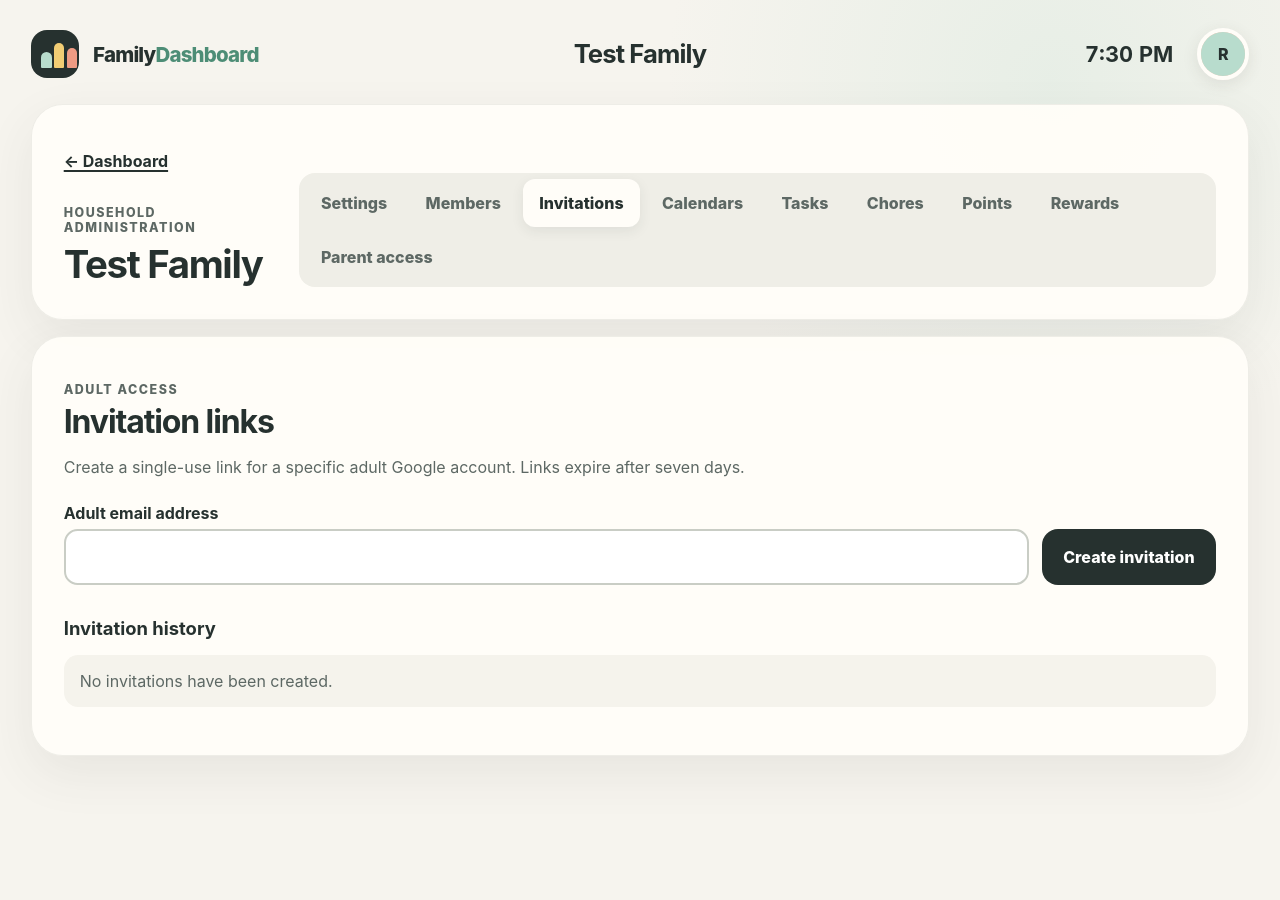
adult invitations › creates a one-time copyable invitation link and lists only metadata
The width and height of the screenshot is (1280, 900).
expect the heading "Invitation links" is shown: met, box x1=64 y1=402 x2=274 y2=441
Type "adult@example.test" into the field labelled "Adult email address" at point(546, 557), box x1=64 y1=529 x2=1029 y2=585
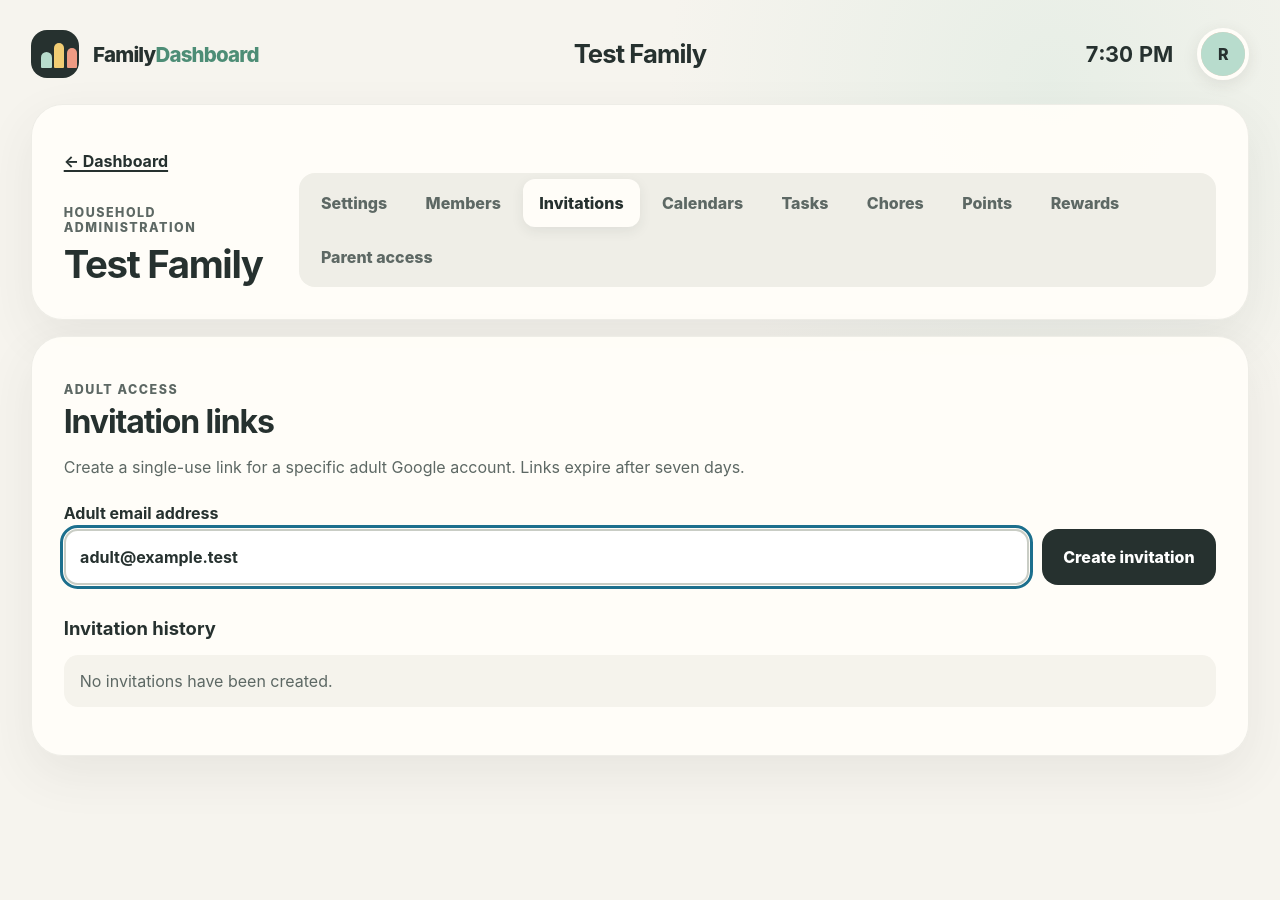
Click the button "Create invitation" at point(1129, 557), box x1=1042 y1=529 x2=1216 y2=585
(page scrolled)
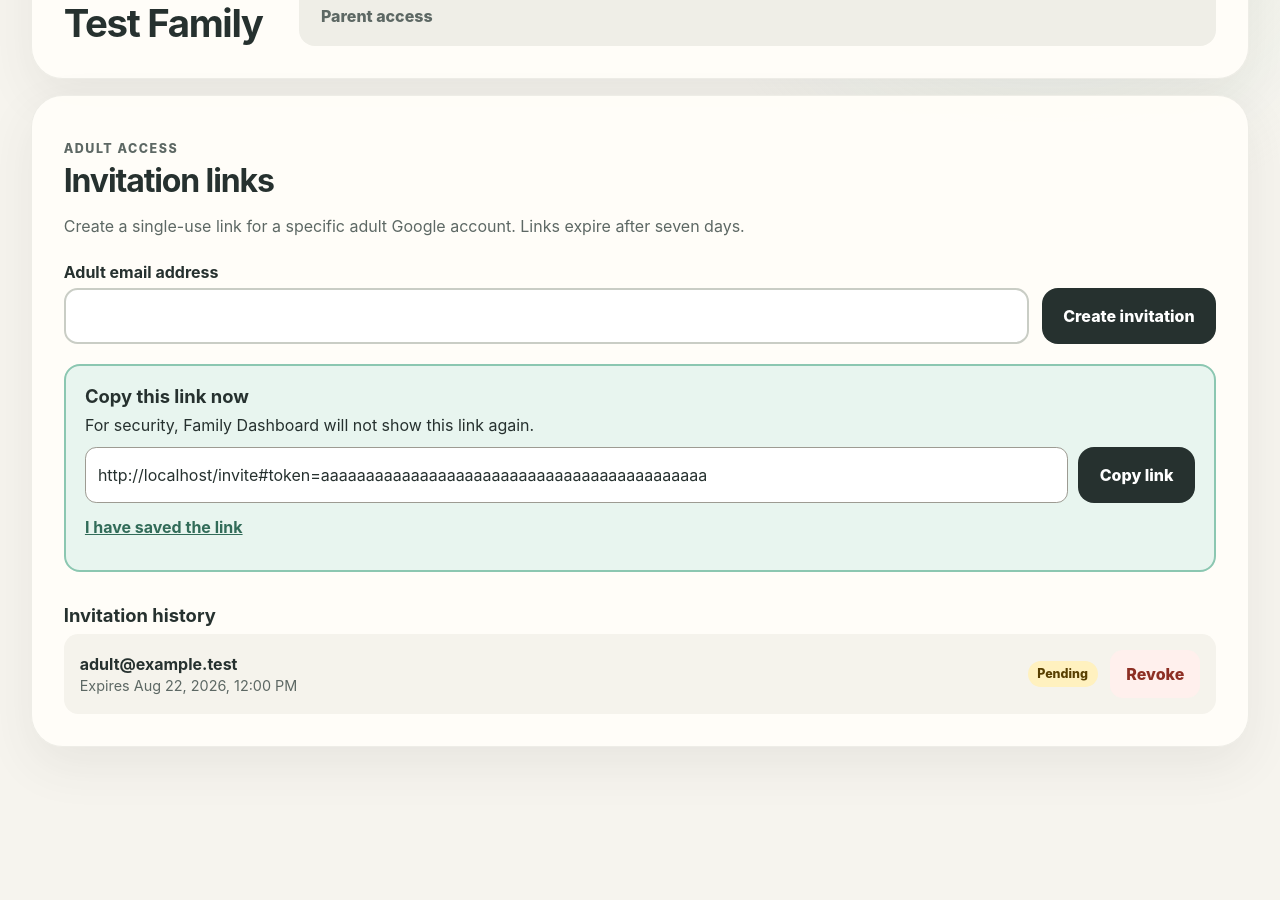
expect the text "adult@example.test" is shown: met, box x1=80 y1=654 x2=237 y2=674
